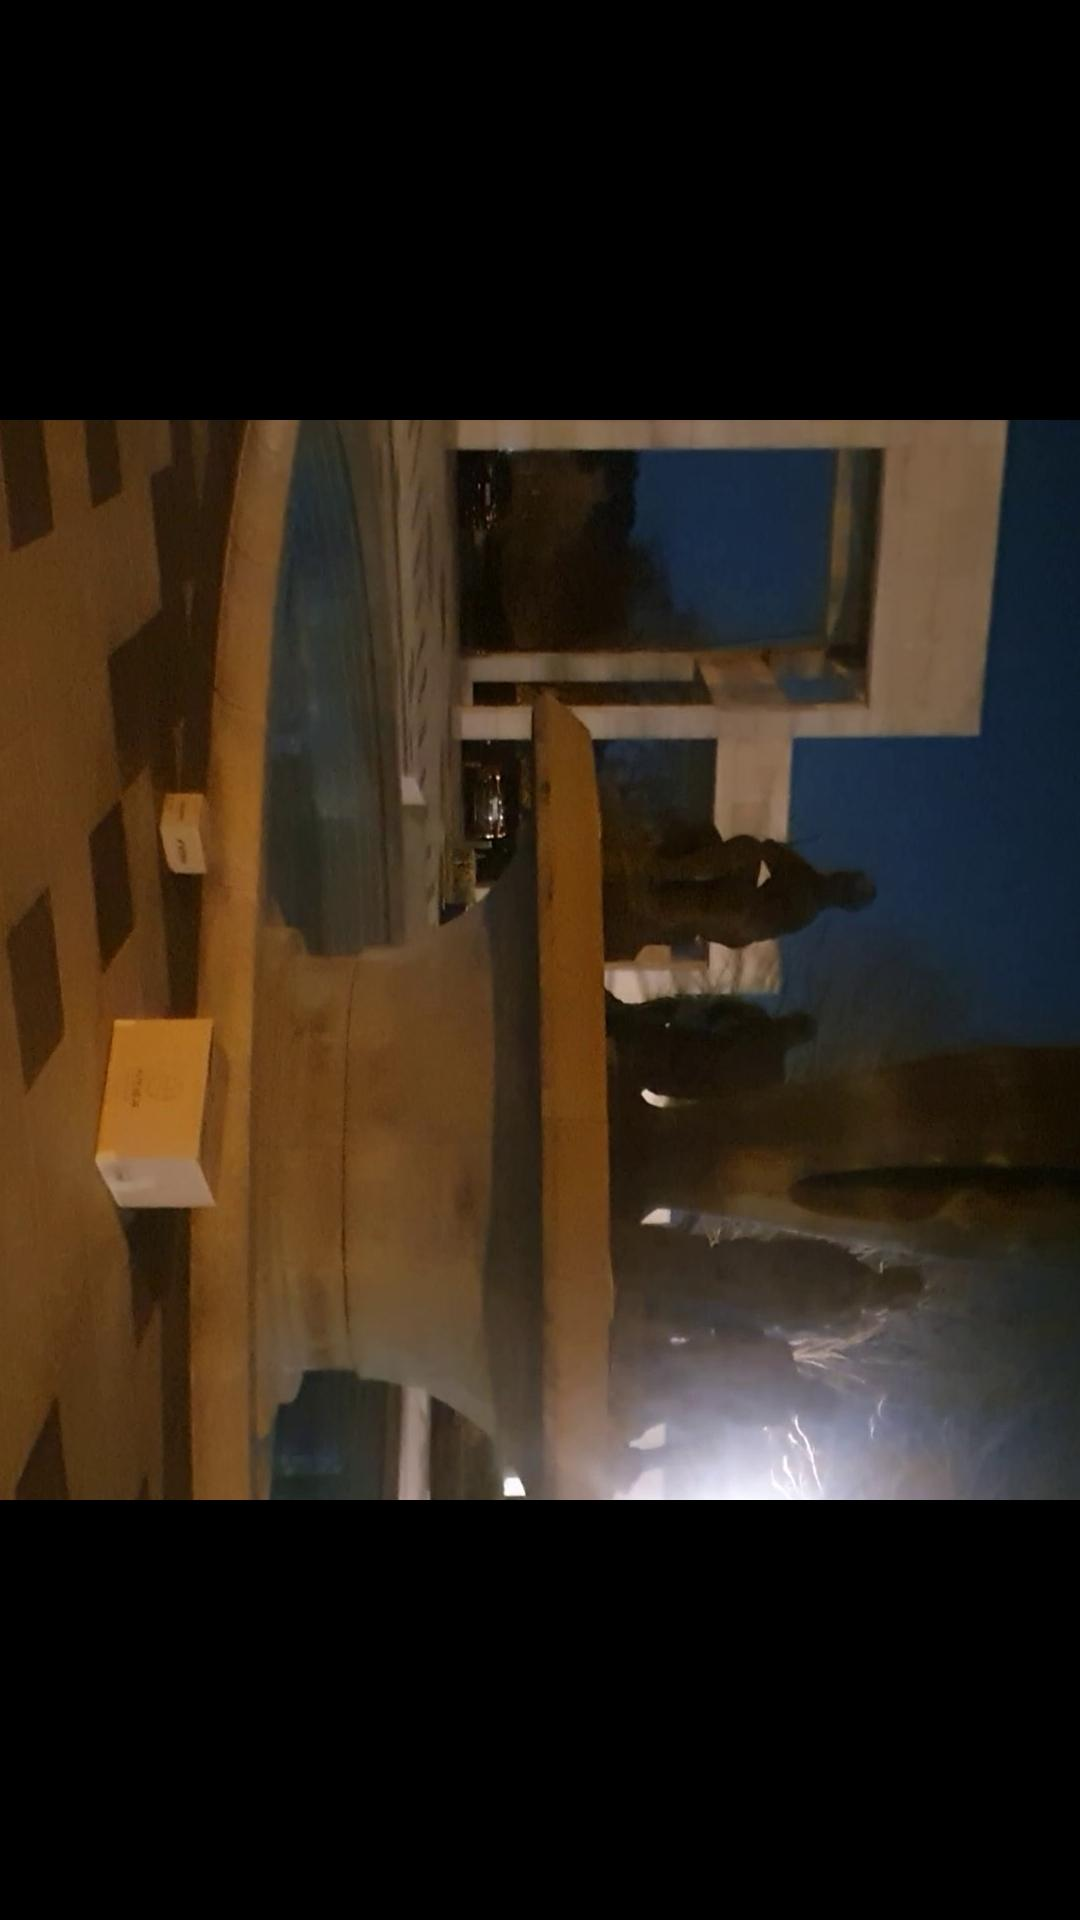Box: (75, 1013, 243, 1218), (150, 775, 227, 878)
